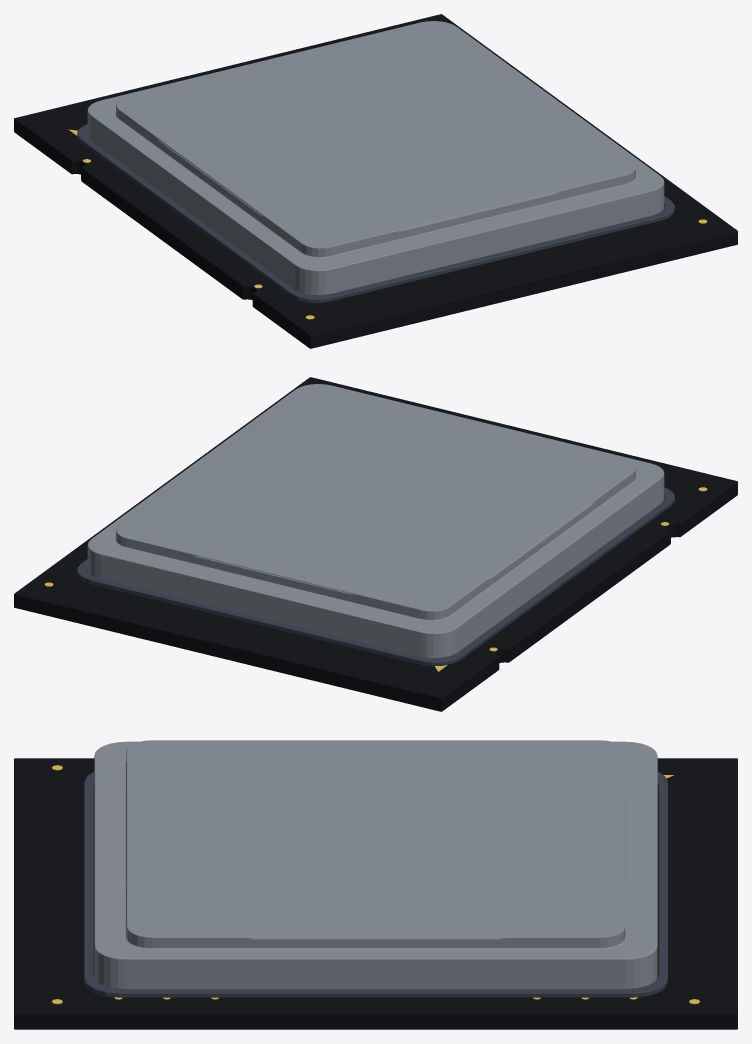
Rendered from cpu.lod0.glb.
3 renders of one model, top to bottom at view 1: azimuth 30°, elevation 25°; view 2: azimuth 150°, elevation 25°; view 3: azimuth 270°, elevation 25°, orthographic. The views are drawn at different scales.
Visible parts, largest first — view 1: P01_ihs_body, P05_substrate_core, P01_ihs_seal; view 2: P01_ihs_body, P05_substrate_core, P01_ihs_seal; view 3: P01_ihs_body, P05_substrate_core, P01_ihs_seal.
Part boxes in pixels (left/top/right/bottom): P01_ihs_body: left=87, top=21, right=664, bottom=295; P05_substrate_core: left=14, top=14, right=737, bottom=348; P01_ihs_seal: left=77, top=124, right=674, bottom=303; P01_ihs_body: left=87, top=384, right=664, bottom=658; P05_substrate_core: left=14, top=377, right=737, bottom=711; P01_ihs_seal: left=77, top=487, right=674, bottom=666; P01_ihs_body: left=94, top=740, right=657, bottom=989; P05_substrate_core: left=14, top=758, right=737, bottom=1029; P01_ihs_seal: left=84, top=772, right=667, bottom=997.
Size of the model in its own units: 37.5 by 4.41 by 45.
